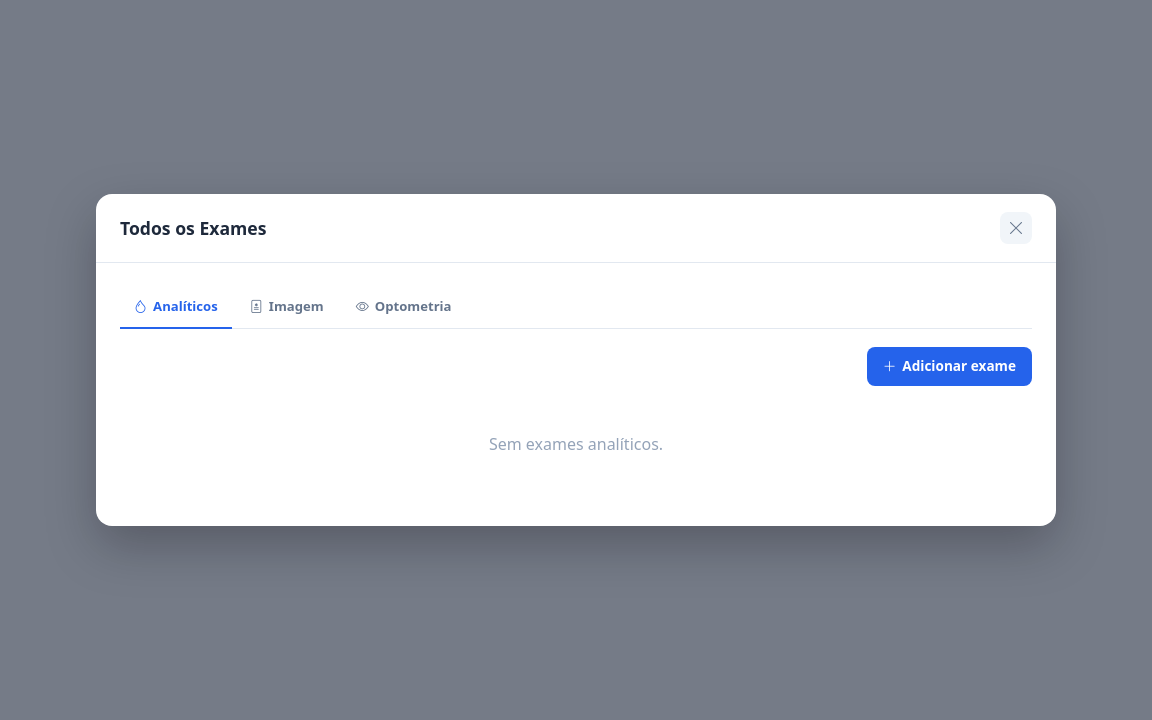
Test: ExamesModal › switches to the optometry tab and lists optometry exams
Expected: the text "Sem exames analíticos." is shown, [489, 432, 663, 454]
Click the button "Optometria" at (404, 308), box [342, 288, 466, 329]
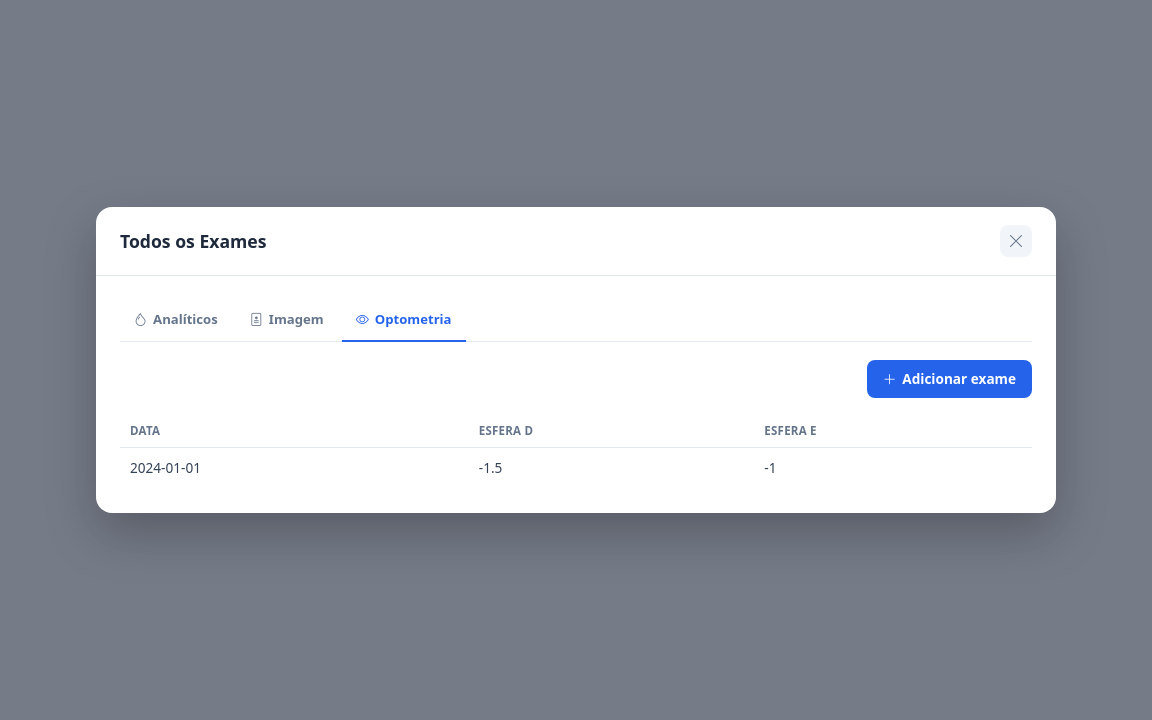
Expected: the text "-1.5" is shown, [469, 448, 754, 489]
